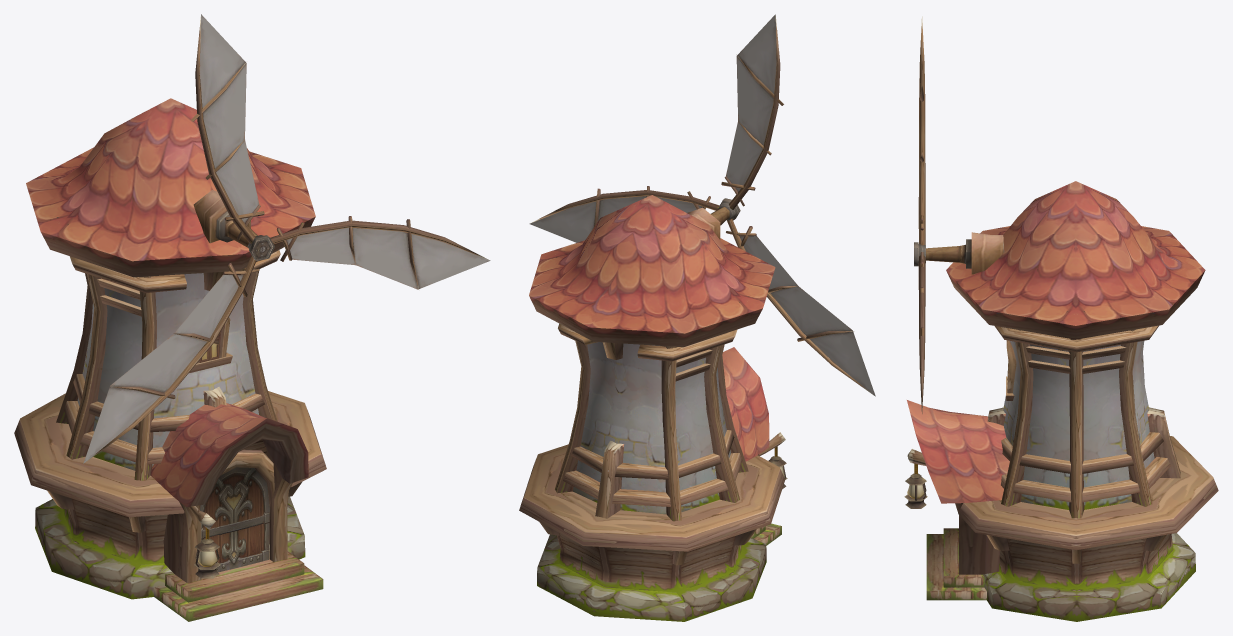
Rendered from Map_04_house08.FBX.
The picture shows the model from 3 angles, left to right: view 1: azimuth 30°, elevation 25°; view 2: azimuth 150°, elevation 25°; view 3: azimuth 270°, elevation 25°; orthographic projection. The views are drawn at different scales.
Parts seen in each view (by area): view 1: Map_04_house08; view 2: Map_04_house08; view 3: Map_04_house08.
Part boxes in pixels (left/top/right/bottom): Map_04_house08: left=14, top=14, right=490, bottom=621; Map_04_house08: left=519, top=14, right=875, bottom=621; Map_04_house08: left=904, top=16, right=1218, bottom=621.
Bounding box in the file's own units: 986 × 1405 × 751.
